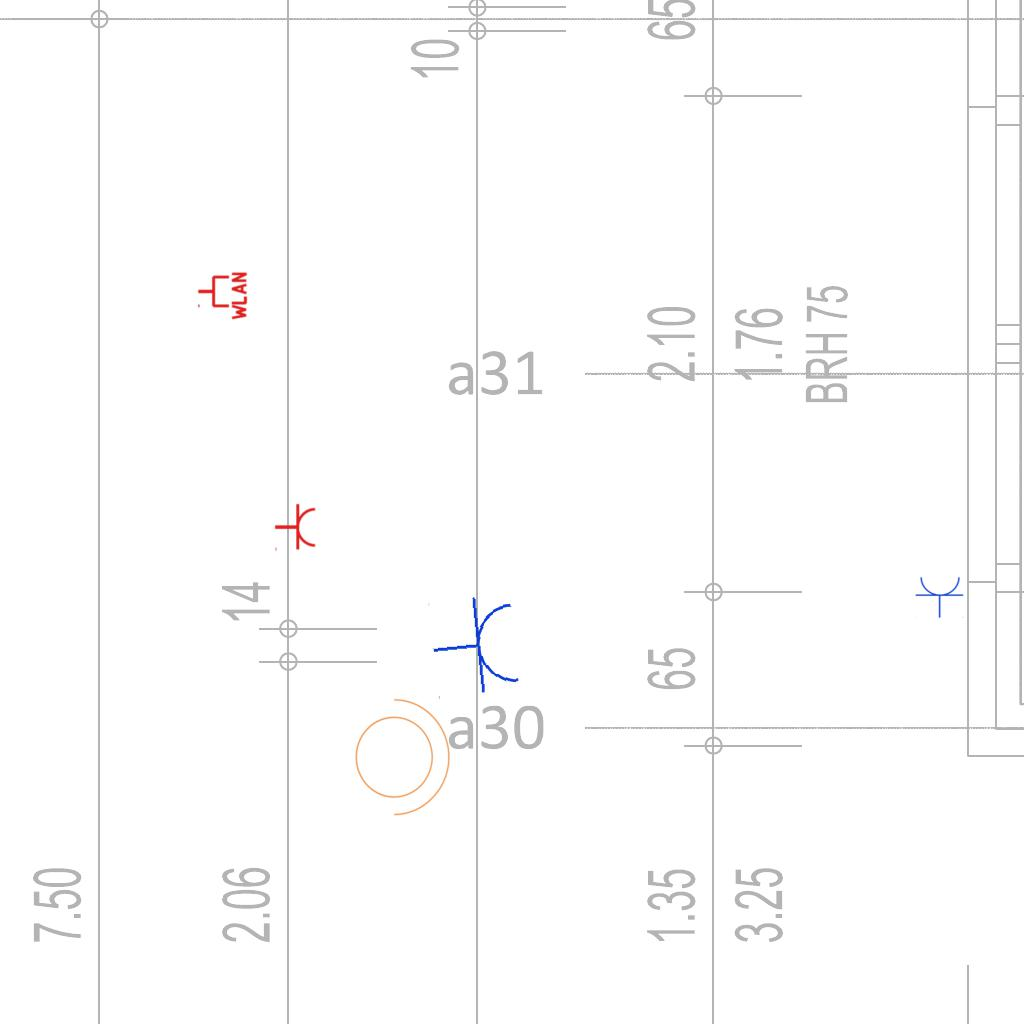Scheinwerfer_fuer_Alarmbeleuchtung: (343, 688, 455, 820)
Schukosteckdose_einfach: (427, 592, 525, 701), (274, 503, 317, 553), (915, 575, 965, 618)
WLAN: (196, 270, 248, 322)
